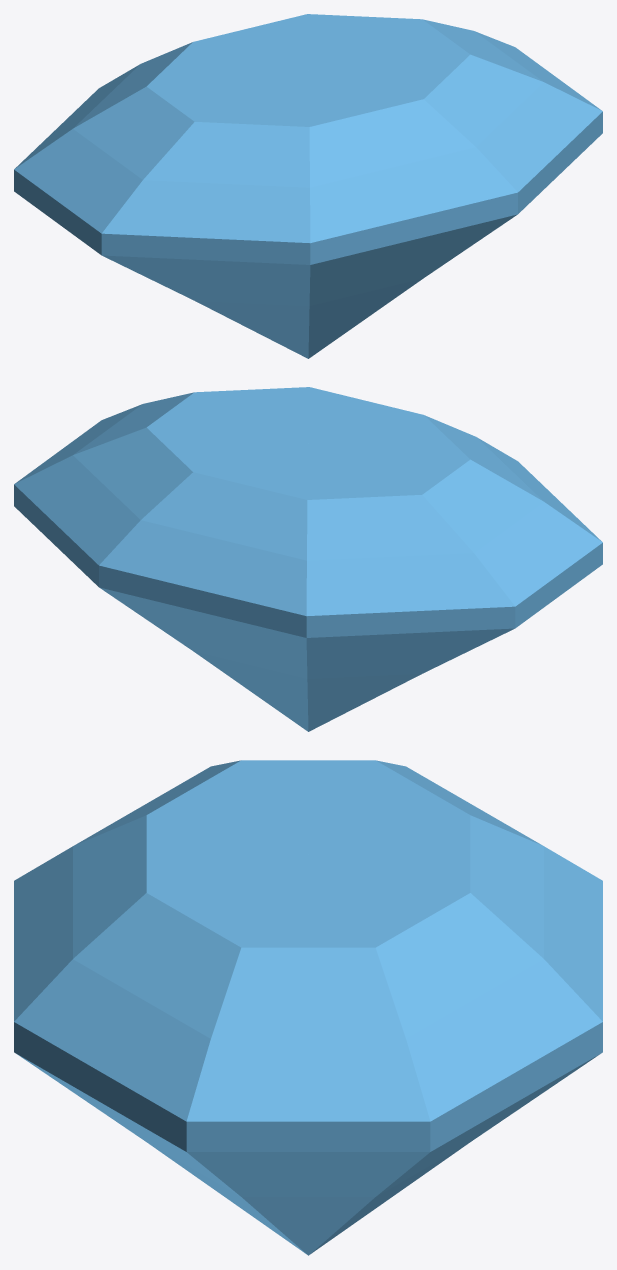
File: kyanite-glass.glb
3 renders of one model, top to bottom at view 1: azimuth 30°, elevation 25°; view 2: azimuth 150°, elevation 25°; view 3: azimuth 270°, elevation 25°, orthographic. The views are drawn at different scales.
Parts seen in each view (by area): view 1: Kyanite; view 2: Kyanite; view 3: Kyanite.
Part boxes in pixels (left/top/right/bottom): Kyanite: left=14, top=14, right=602, bottom=358; Kyanite: left=14, top=387, right=602, bottom=731; Kyanite: left=14, top=760, right=602, bottom=1255.
Bounding box in the file's own units: 2.4 × 1.32 × 1.76.
